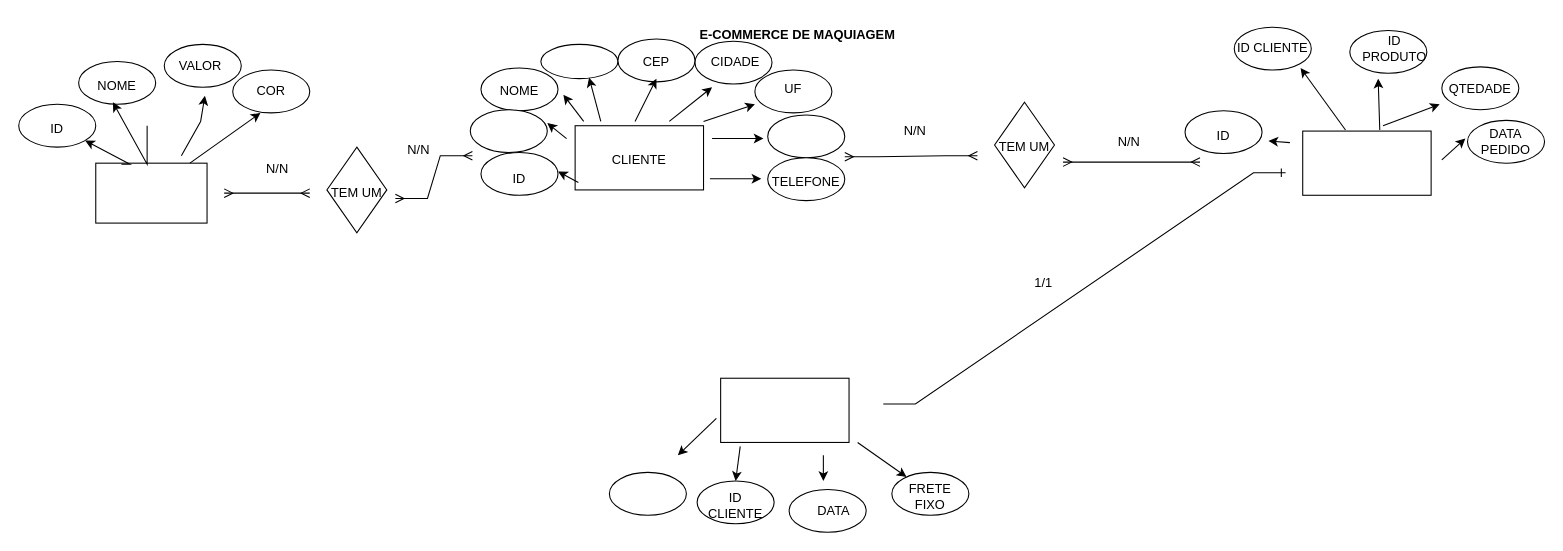
Image size: 1563x551. Some labels were removed from this diagram. Each missing label, with the centre of its shape:
"CPF" belongs at point (508, 130).
"E-MAIL" belongs at point (806, 136).
"ENDEREÇO" belongs at point (579, 61).
"ID PEDIDO" belongs at point (647, 493).
"PAGAMENTO" belongs at point (784, 409).
"PEDIDO" belongs at point (1366, 162).
"PRODUTO" belongs at point (151, 192).
